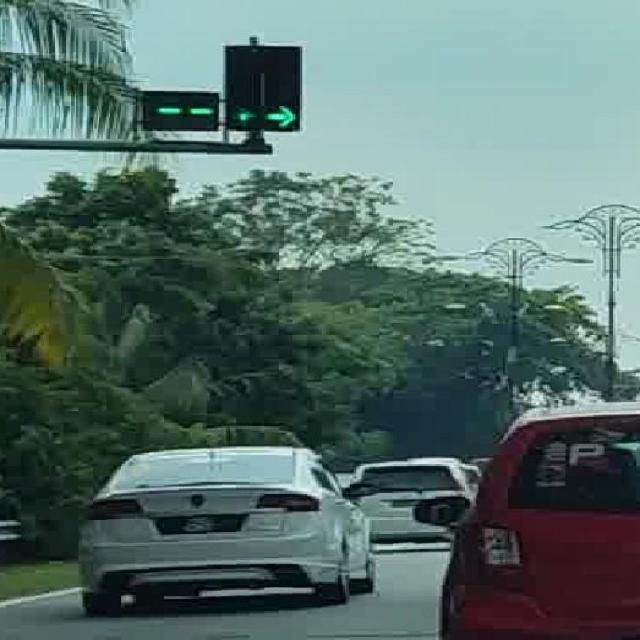green_light: (222, 44, 260, 134), (262, 44, 300, 132)
